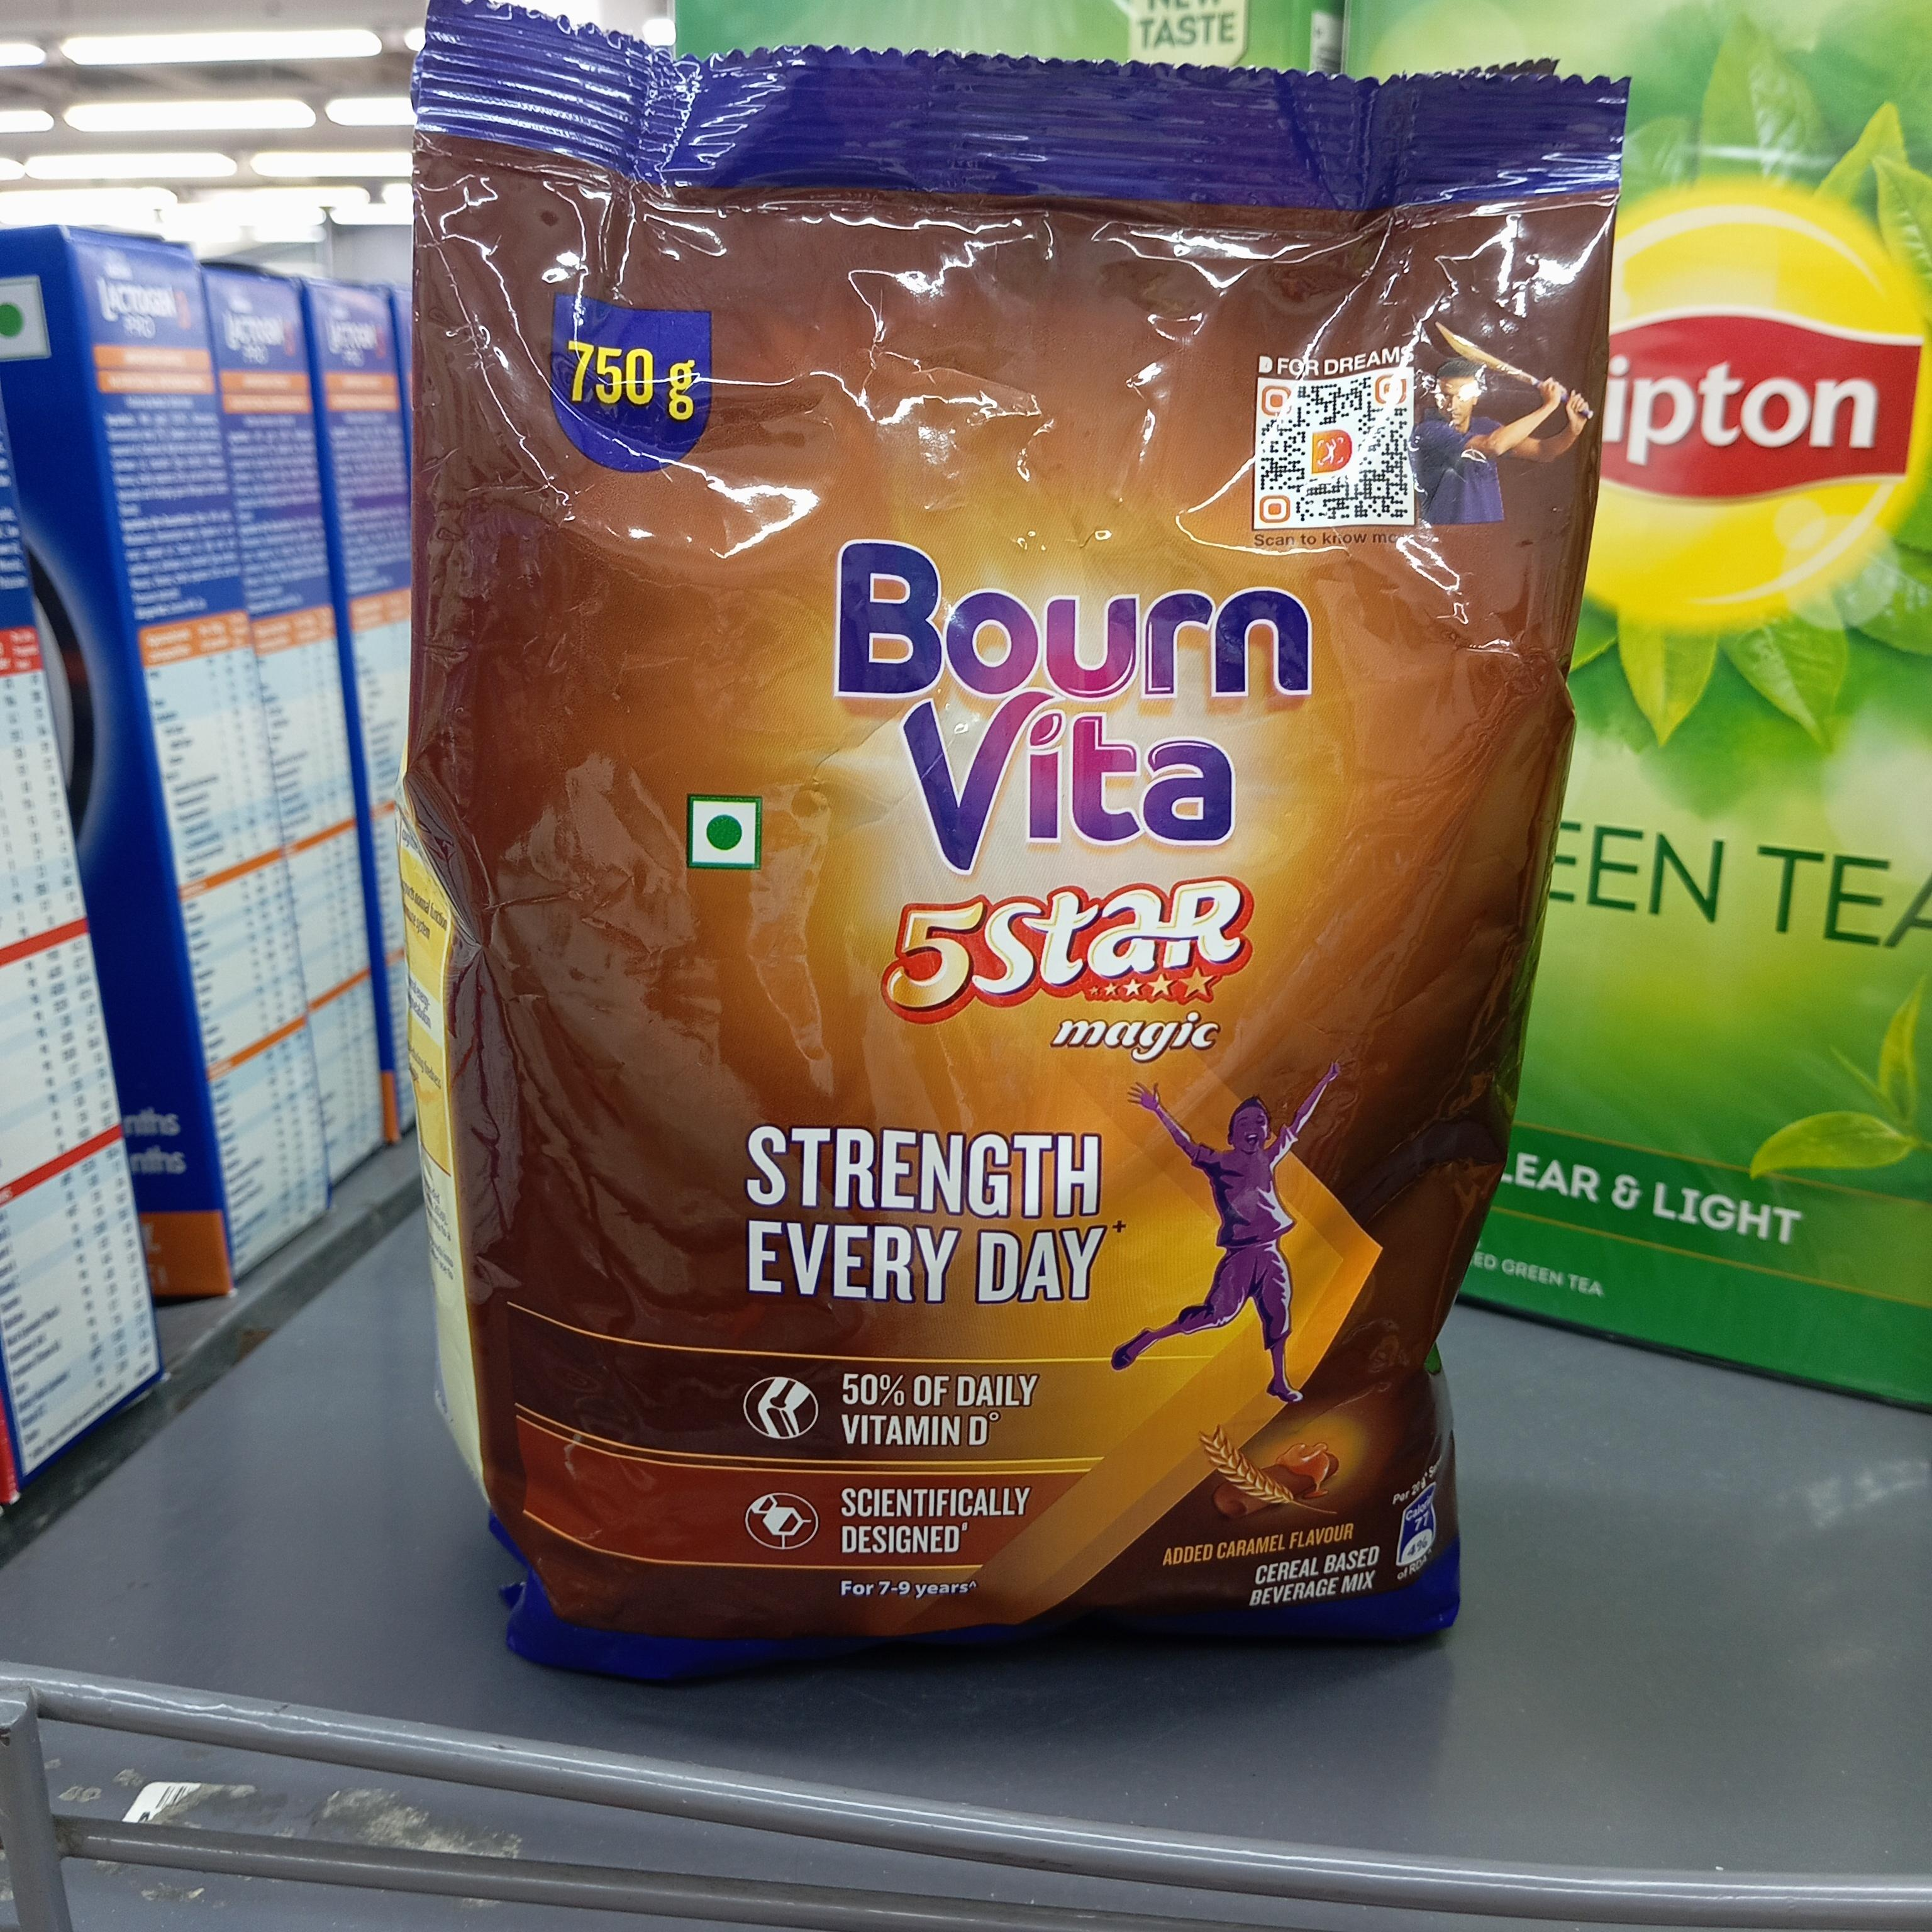BOURN_VITA_FIVE_STAR_MAGIC_750_G_POUCH: (409, 25, 1479, 1667)
